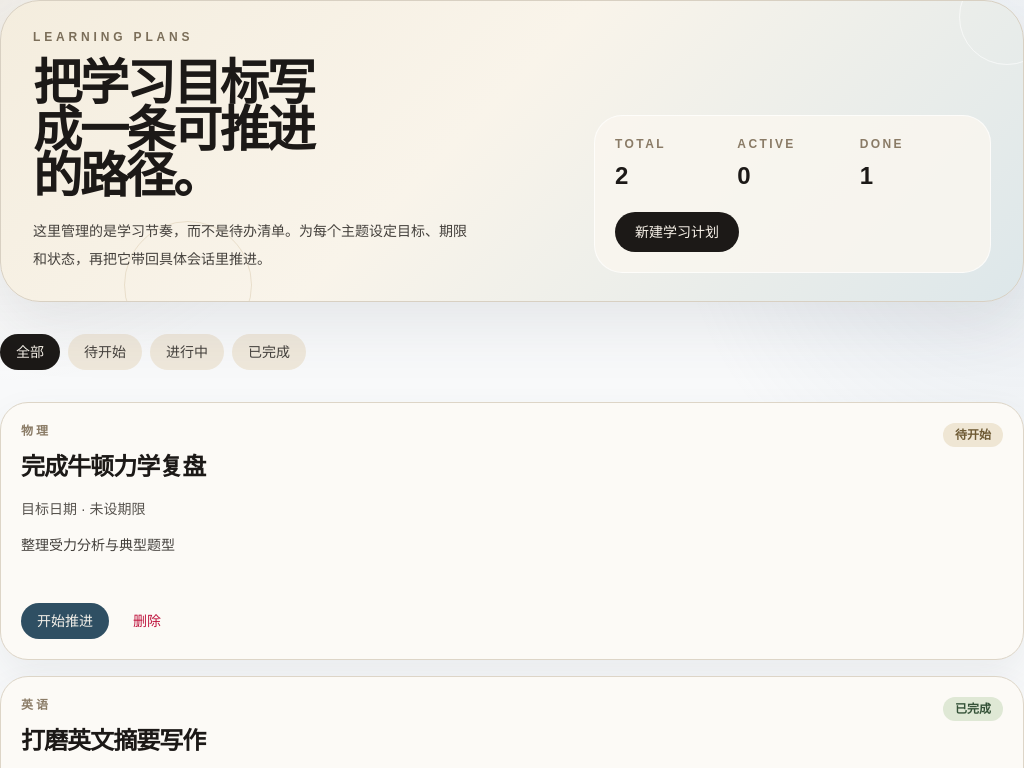
it: PlansPage › loads plans and filters by status
This screenshot has width=1024, height=768.
Check: the heading "完成牛顿力学复盘" is shown, box [21,451,205,483]
Click the button "已完成" at [269, 352], box [232,334,306,370]
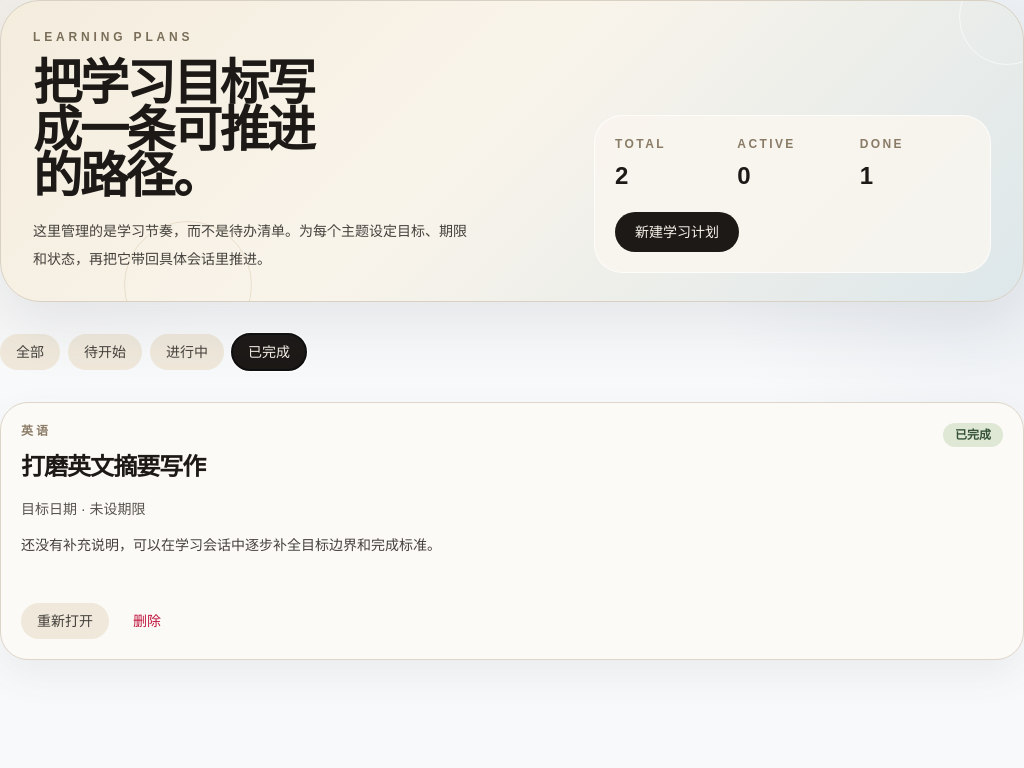
Check: the heading "打磨英文摘要写作" is shown, box [21,451,205,483]
Check: the heading "完成牛顿力学复盘" is gone
